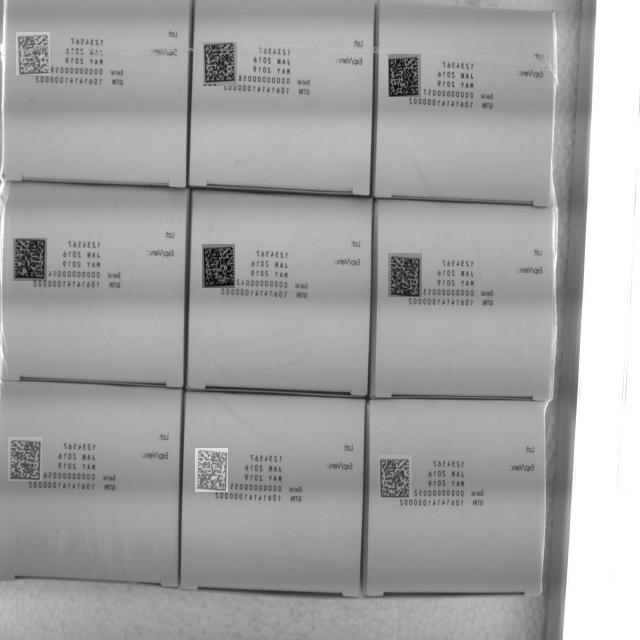DataMatrix: (203, 42, 237, 86), (388, 253, 422, 297), (8, 437, 42, 481), (16, 32, 50, 75), (13, 238, 47, 281), (202, 244, 235, 288), (195, 448, 228, 492), (379, 455, 412, 499), (388, 54, 421, 97)
